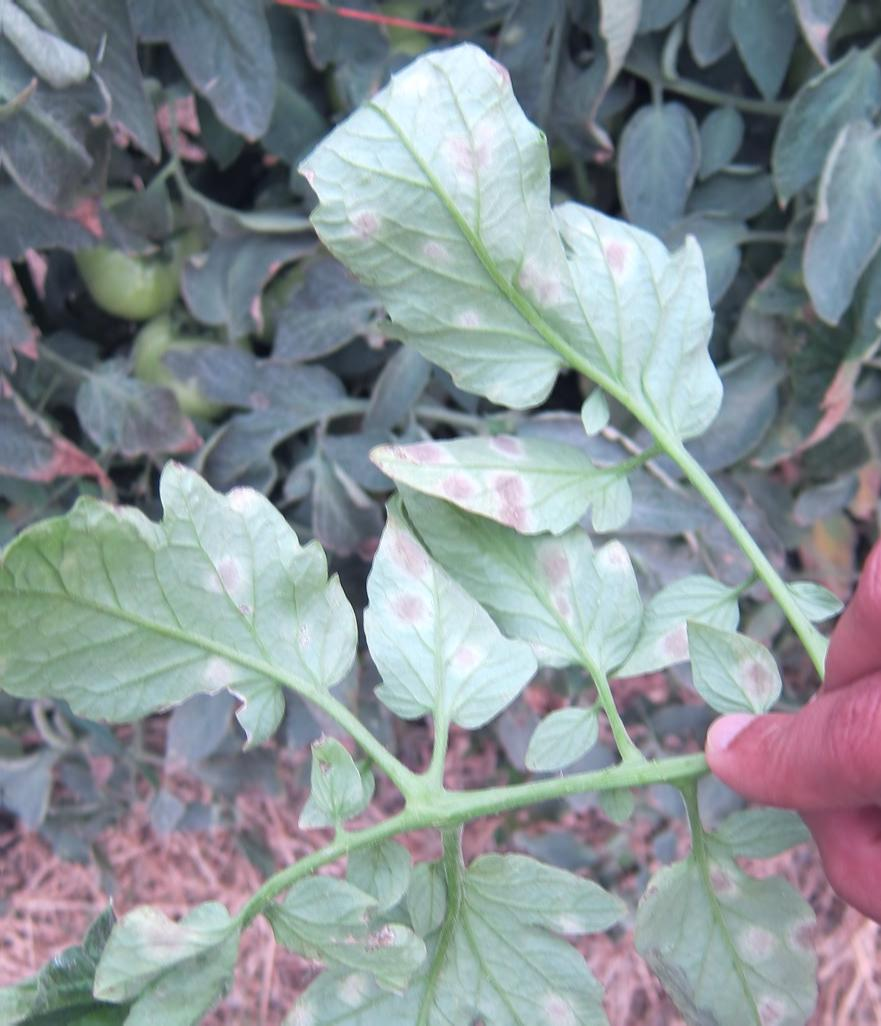Tomato mold leaf: (292, 27, 710, 448), (0, 459, 358, 736), (288, 858, 640, 1026), (391, 467, 646, 685), (349, 487, 551, 737), (622, 808, 822, 1026), (354, 403, 657, 530), (0, 891, 238, 1026), (258, 866, 418, 1000), (663, 595, 787, 716)
